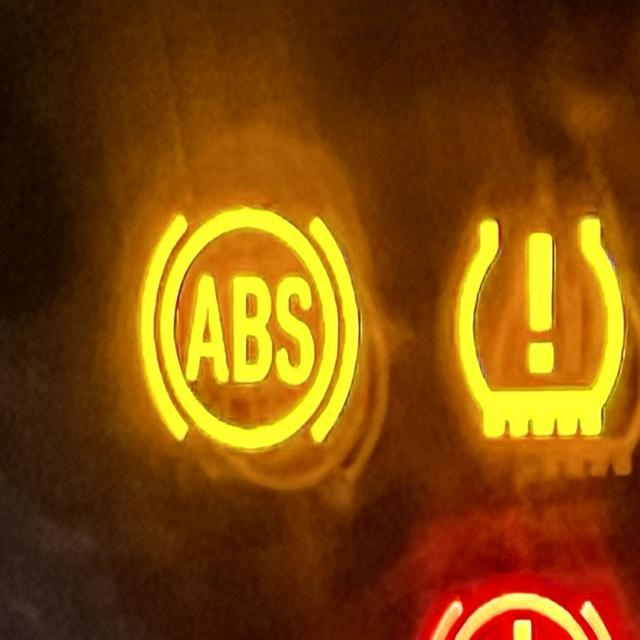ABS: (138, 195, 366, 458)
HandBrakeWarning: (426, 570, 622, 640)
TyrePressureLow: (442, 202, 640, 456)
